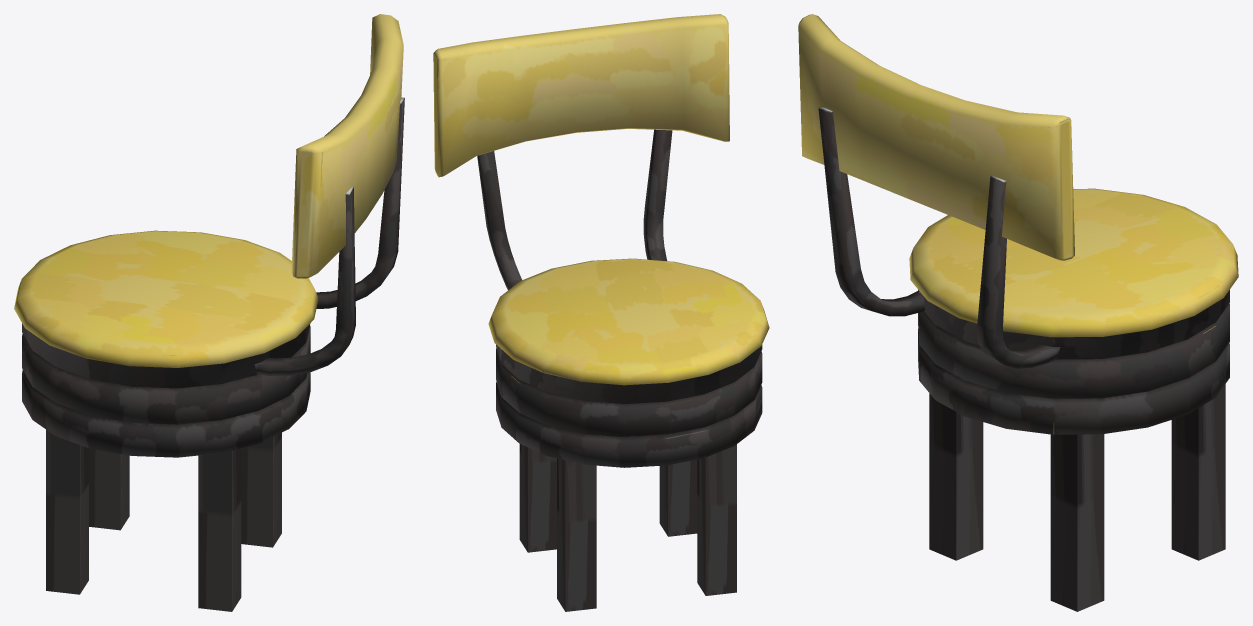
File: BanquetaFixed.fbx
3 views of the same model, side by side, from view 1: azimuth 30°, elevation 25°; view 2: azimuth 150°, elevation 25°; view 3: azimuth 270°, elevation 25° (orthographic). The views are drawn at different scales.
Parts seen in each view (by area): view 1: Cube; view 2: Cube; view 3: Cube.
Boxes of the visible parts, x1,y1,x2,y2 form: Cube: (14, 14, 404, 611); Cube: (433, 14, 769, 611); Cube: (798, 14, 1238, 611).
Size of the model in its own units: 1.09 by 1.09 by 1.49.
1 material, 1 textured.
